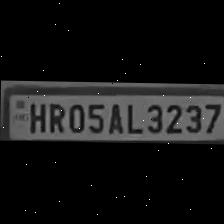0: (64, 100, 86, 132)
2: (162, 100, 182, 132)
3: (142, 99, 162, 132), (182, 100, 200, 132)
5: (84, 100, 104, 134)
7: (201, 100, 221, 133)
A: (105, 99, 125, 135)
H: (24, 99, 46, 132)
L: (122, 100, 142, 134)
R: (44, 100, 64, 132)
